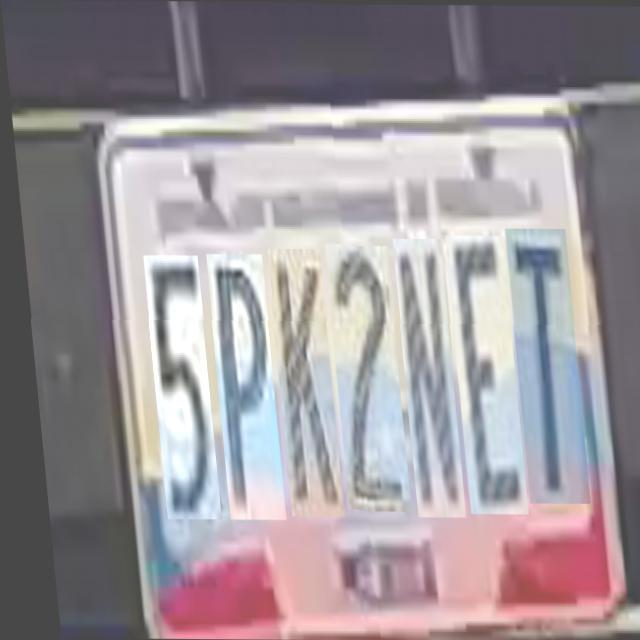2: (320, 246, 402, 512)
5: (138, 257, 212, 521)
E: (440, 234, 520, 514)
K: (263, 250, 335, 518)
N: (388, 238, 457, 518)
P: (201, 256, 277, 522)
T: (501, 228, 582, 503)
